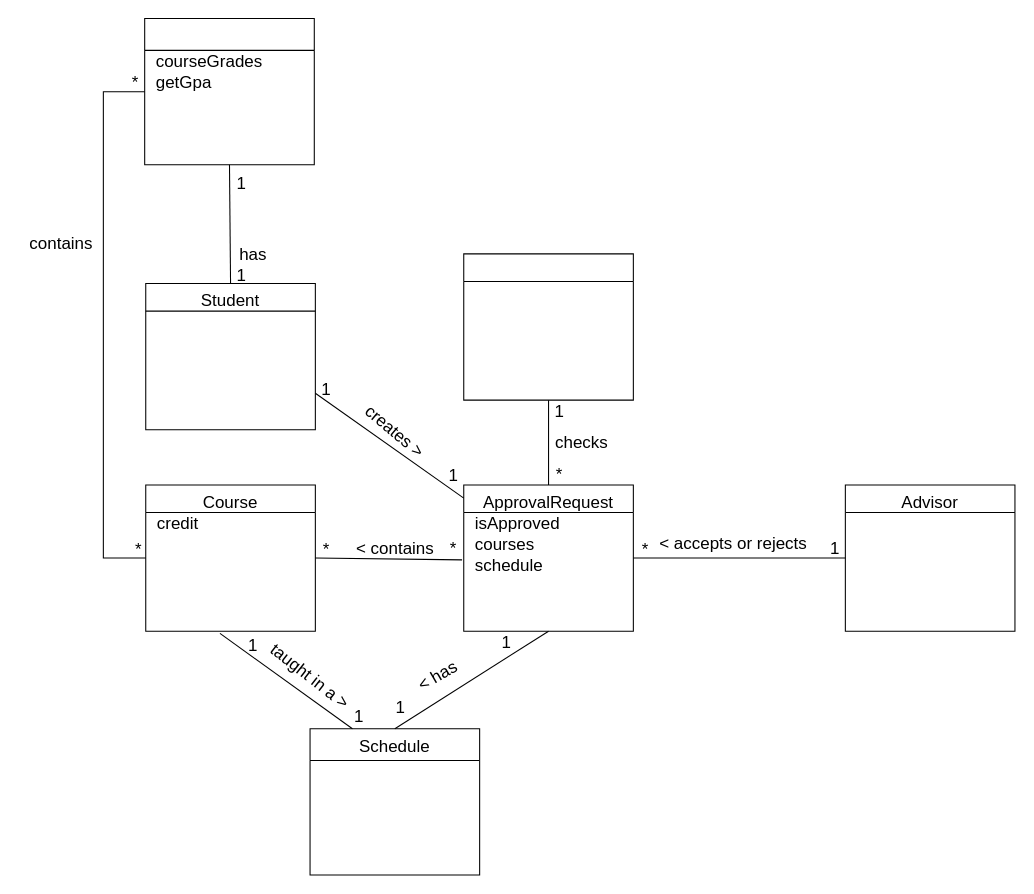
This 1034x894 diagram has some shape labels left out. The shapes that lost their labels are listed below. From the top down, each one's box as (x1, y1, x2, y2) in pixels, then its label:
(144, 17, 314, 165): Transcript
(463, 253, 633, 400): RegistrationSystem
